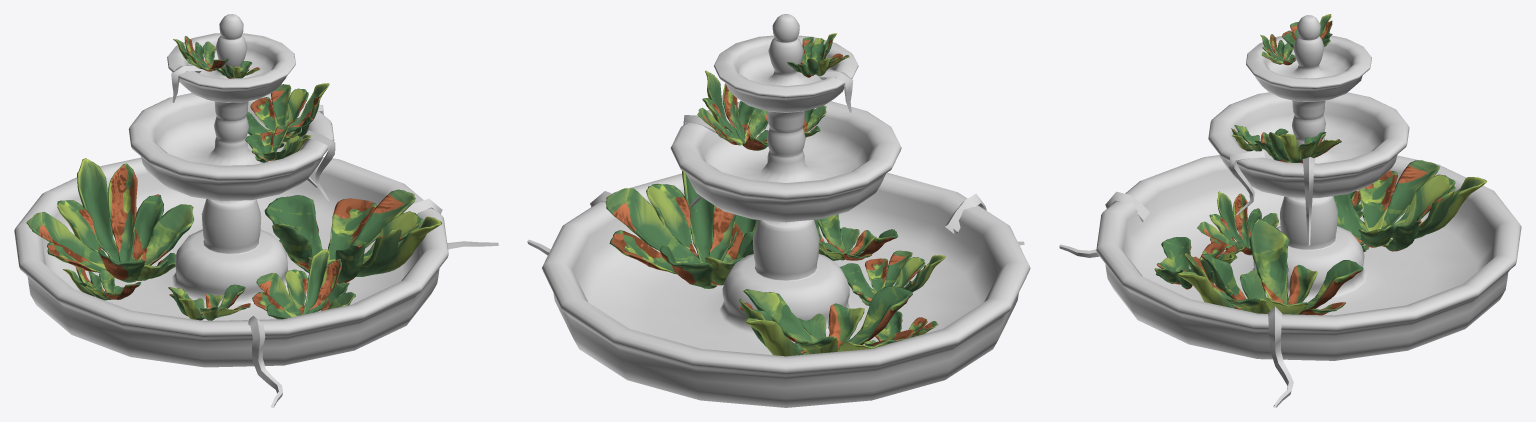
File: MS_Fountain_2.fbx
The picture shows the model from 3 angles, left to right: view 1: azimuth 30°, elevation 25°; view 2: azimuth 150°, elevation 25°; view 3: azimuth 270°, elevation 25°; orthographic projection. The views are drawn at different scales.
Visible parts, largest first — view 1: MS_FountainBase, MS_FountainLeaves, MS_FountainRoots; view 2: MS_FountainBase, MS_FountainLeaves, MS_FountainRoots; view 3: MS_FountainBase, MS_FountainLeaves, MS_FountainRoots.
Part boxes in pixels (left/top/right/bottom): MS_FountainBase: left=14, top=14, right=448, bottom=367; MS_FountainLeaves: left=26, top=36, right=441, bottom=320; MS_FountainRoots: left=171, top=64, right=498, bottom=407; MS_FountainBase: left=542, top=14, right=1030, bottom=407; MS_FountainLeaves: left=605, top=33, right=945, bottom=356; MS_FountainRoots: left=527, top=69, right=1024, bottom=255; MS_FountainBase: left=1096, top=15, right=1521, bottom=360; MS_FountainLeaves: left=1154, top=14, right=1486, bottom=315; MS_FountainRoots: left=1059, top=151, right=1315, bottom=407.
Bounding box in the file's own units: 145 × 88.31 × 136.
